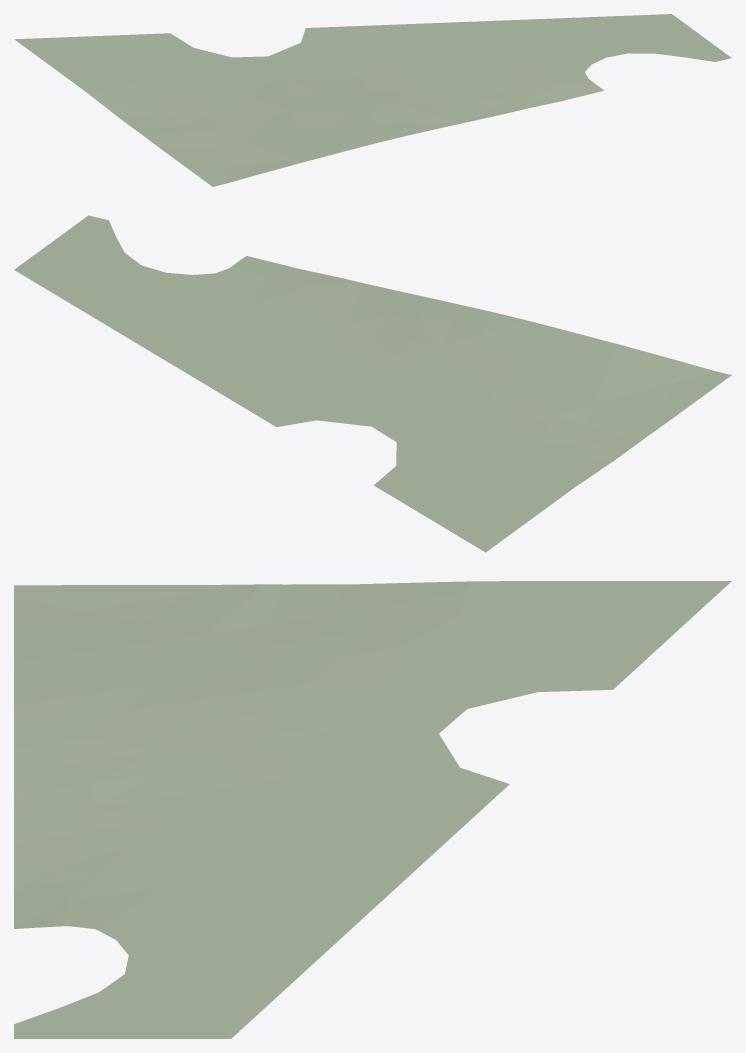
Rendered from SM_MPRR_Terrain_2_3.fbx.
The picture shows the model from 3 angles, top to bottom: view 1: azimuth 30°, elevation 25°; view 2: azimuth 150°, elevation 25°; view 3: azimuth 270°, elevation 25°; orthographic projection. The views are drawn at different scales.
Parts seen in each view (by area): view 1: SM_MPRR_Terrain_2_3; view 2: SM_MPRR_Terrain_2_3; view 3: SM_MPRR_Terrain_2_3.
Part boxes in pixels (x1,y1,x2,y2): SM_MPRR_Terrain_2_3: (14,14,731,186); SM_MPRR_Terrain_2_3: (14,215,731,552); SM_MPRR_Terrain_2_3: (14,581,731,1038).
Bounding box in the file's own units: 15000 × 9943 × 106.
